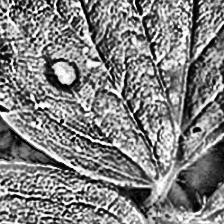Leaf Spot: (0, 0, 224, 192), (0, 161, 192, 224)
